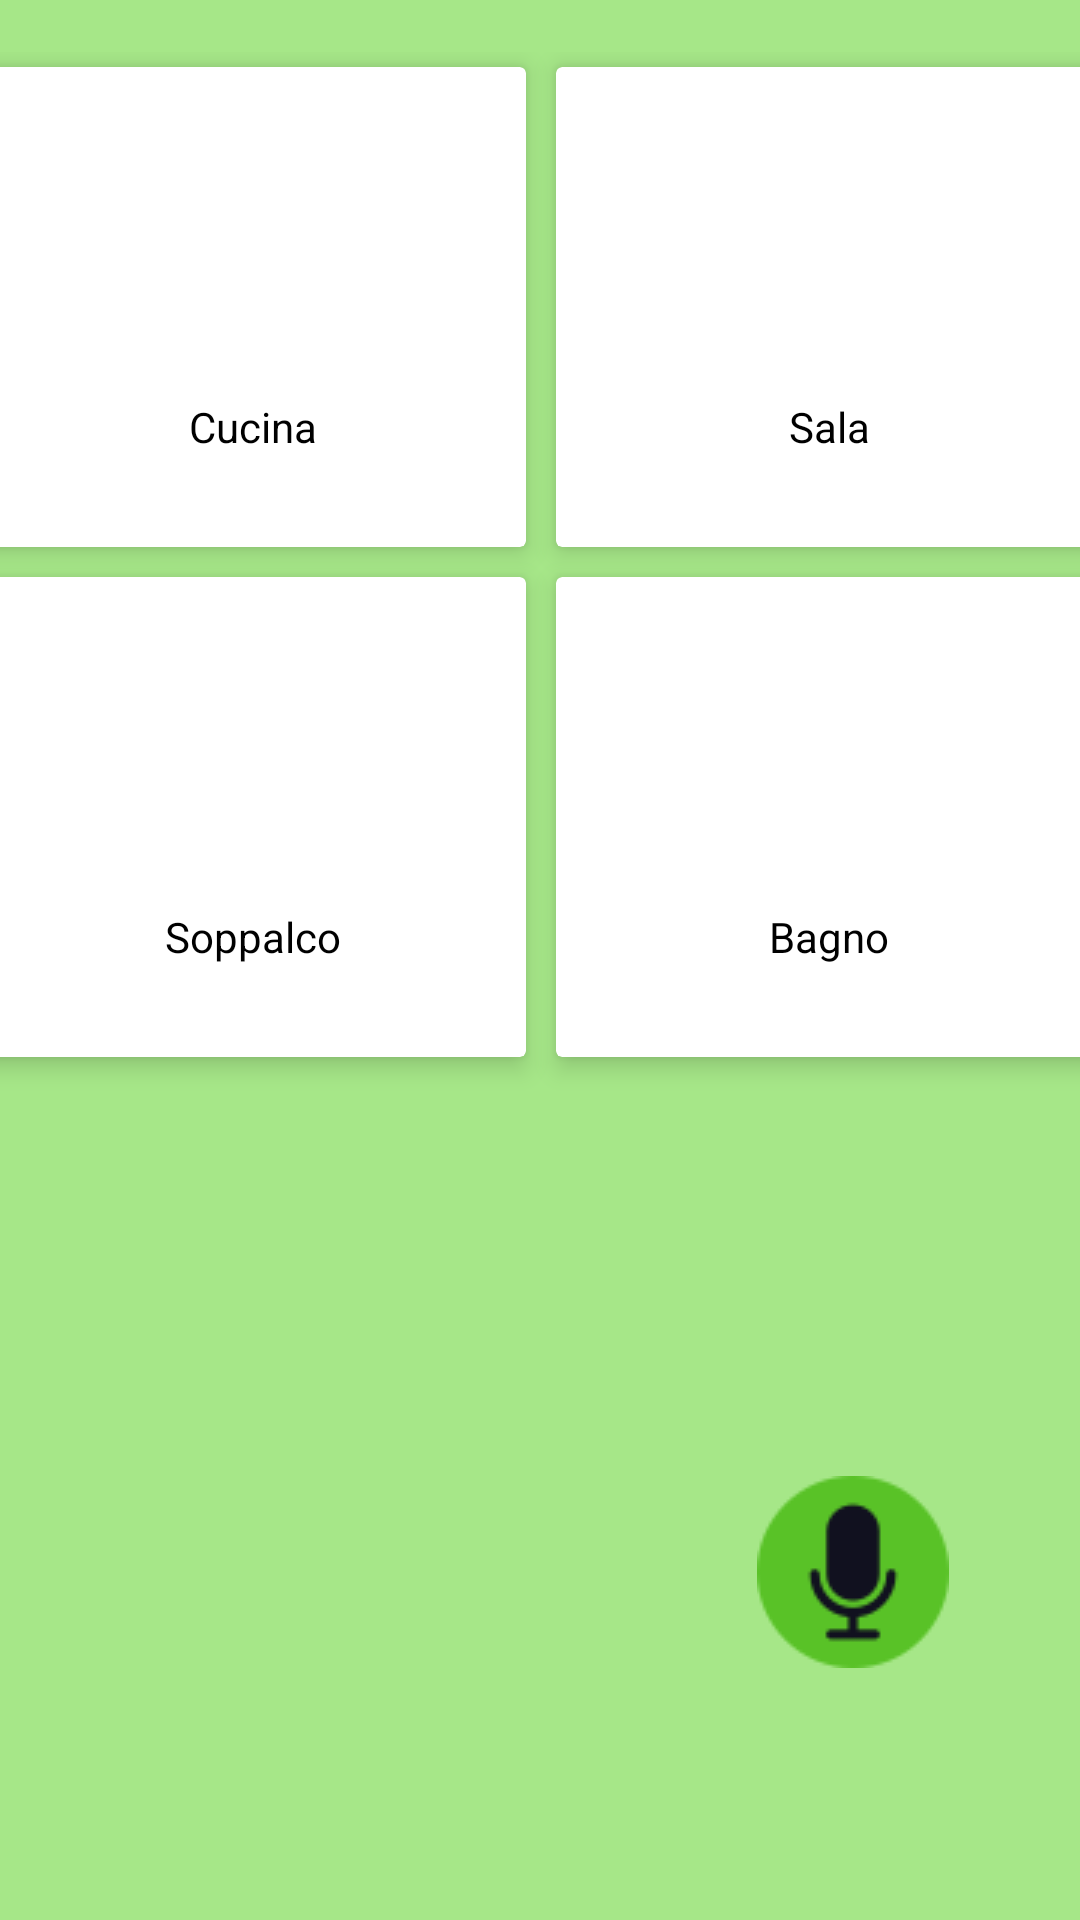

Screen size 1080 x 1920. Icon name, then its center in pixels as (x=x, y=y):
Voice Command: (x=853, y=1572)
